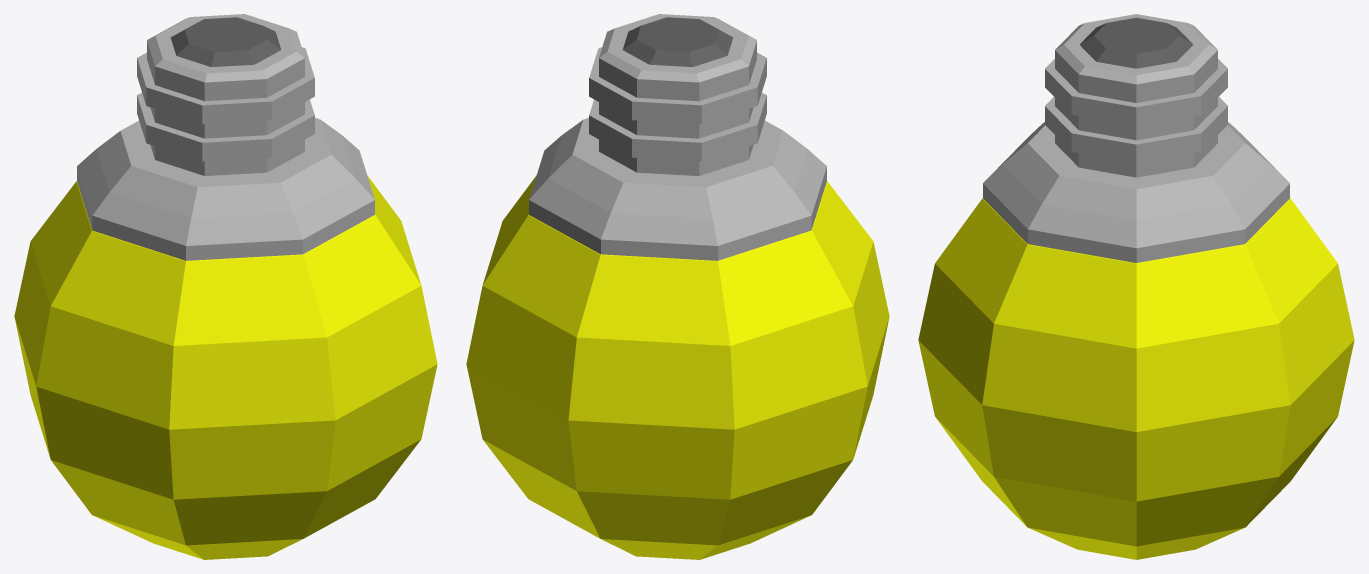
The model's file is bulb.fbx.
3 views of the same model, side by side, from view 1: azimuth 30°, elevation 25°; view 2: azimuth 150°, elevation 25°; view 3: azimuth 270°, elevation 25° (orthographic).
Parts seen in each view (by area): view 1: Bulb; view 2: Bulb; view 3: Bulb.
Boxes of the visible parts, x1,y1,x2,y2 form: Bulb: (14,14,437,559); Bulb: (466,14,889,559); Bulb: (918,14,1354,559).
Size of the model in its own units: 9.58 by 12.22 by 9.58.
